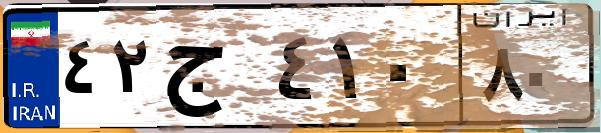0: (385, 28, 445, 110), (525, 38, 570, 115)
1: (330, 28, 385, 110)
2: (110, 28, 158, 98)
4: (270, 28, 330, 110), (57, 26, 110, 100)
8: (475, 38, 525, 113)
ج: (158, 20, 270, 120)
